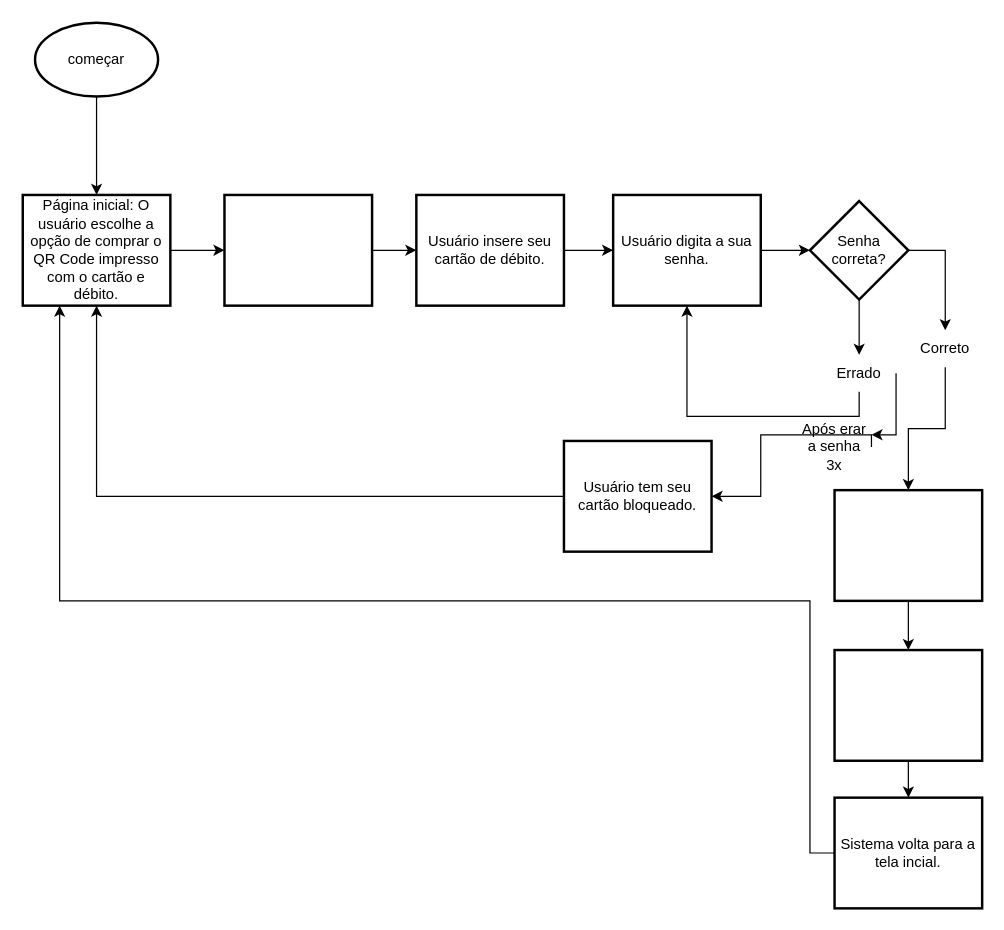
Image size: 1004x930. Some labels were removed from this diagram. The box of each missing label's shape, as (x1, y1, x2, y2) in pixels:
Escolher quantos QR Codes irão ser impressos: (223, 193, 373, 306)
Sistema pede para o usuário retirar seu cartão.: (833, 648, 983, 761)
Usuário tem sua compra aprovada.: (833, 488, 983, 601)
